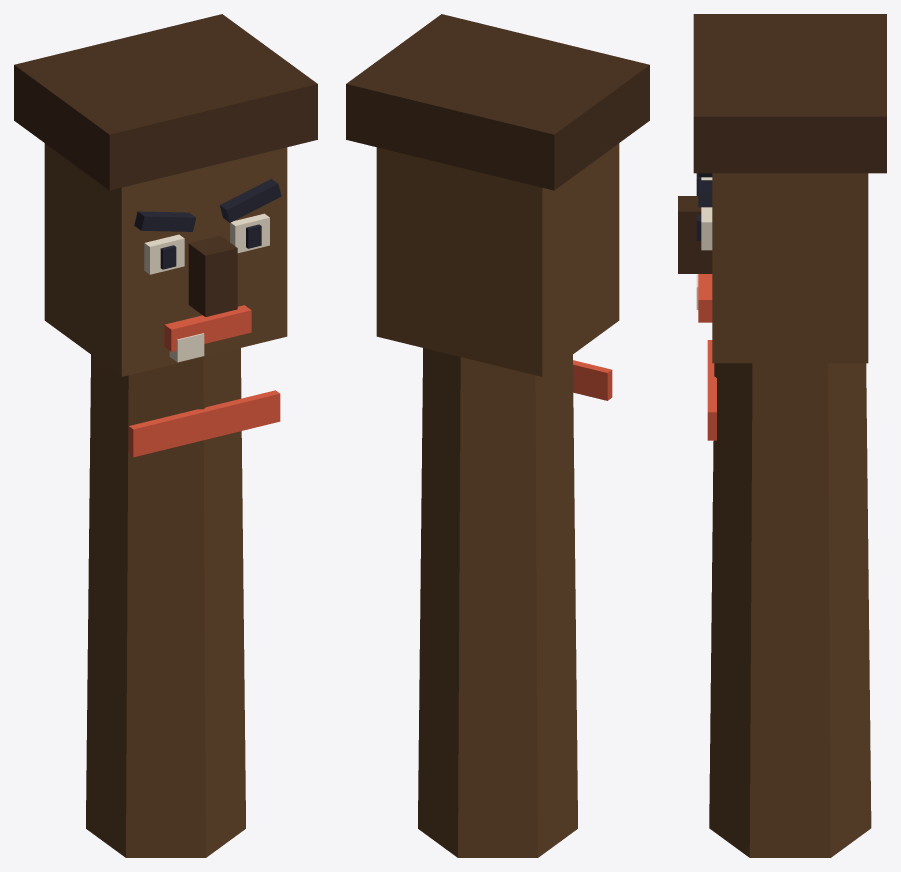
The model's file is prop_jangseung.glb.
The picture shows the model from 3 angles, left to right: view 1: azimuth 30°, elevation 25°; view 2: azimuth 150°, elevation 25°; view 3: azimuth 270°, elevation 25°; orthographic projection.
Visible parts, largest first — view 1: prop_jangseung; view 2: prop_jangseung; view 3: prop_jangseung.
Boxes of the visible parts, left/top/right/bottom form: prop_jangseung: left=14, top=14, right=317, bottom=857; prop_jangseung: left=346, top=14, right=649, bottom=857; prop_jangseung: left=678, top=14, right=886, bottom=857.
Bounding box in the file's own units: 0.78 × 2.7 × 0.67.
